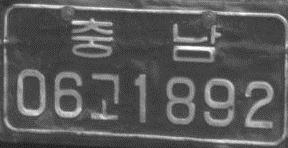0: (16, 67, 46, 117)
1: (126, 72, 156, 124)
2: (243, 79, 274, 129)
6: (53, 70, 82, 118)
8: (165, 76, 196, 126)
9: (203, 78, 235, 127)
고: (89, 70, 120, 120)
충남_D: (70, 17, 221, 64)
